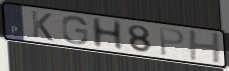8: (125, 24, 154, 53)
G: (60, 15, 90, 46)
H: (187, 30, 224, 65), (90, 16, 125, 51)
K: (29, 9, 55, 43)
P: (158, 26, 187, 58)
